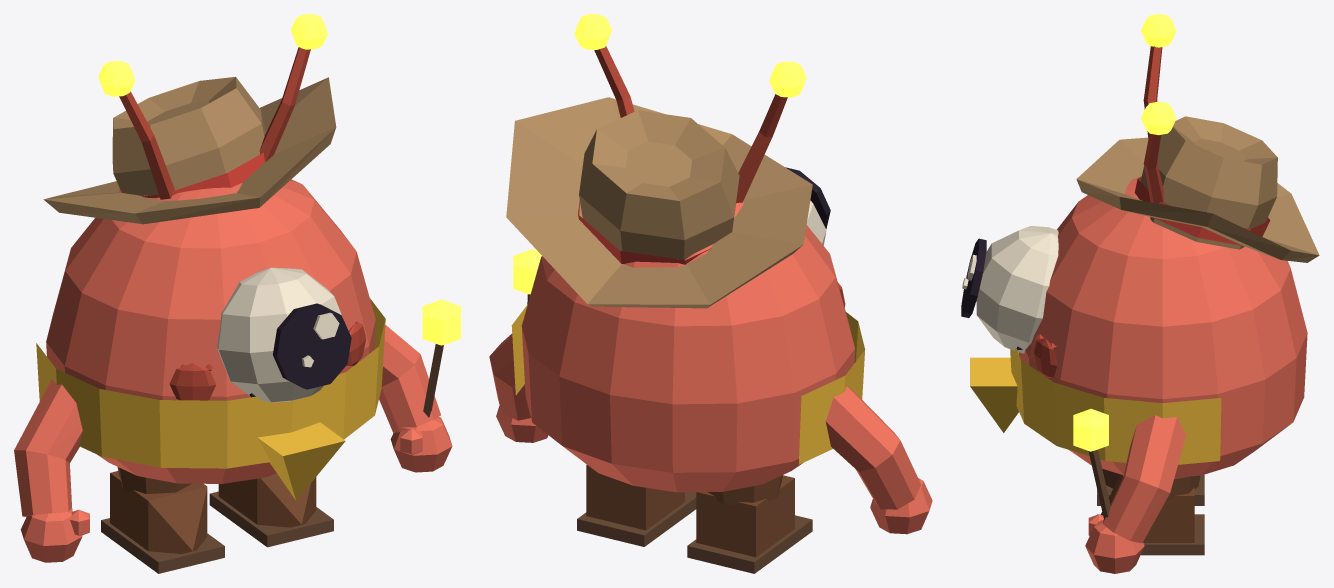
File: Char_Native_Kid.fbx
3 views of the same model, side by side, from view 1: azimuth 30°, elevation 25°; view 2: azimuth 150°, elevation 25°; view 3: azimuth 270°, elevation 25° (orthographic). The views are drawn at different scales.
Visible parts, largest first — view 1: Char_Native_Kid_Body, Char_Native_Kid_Head, Char_Native_Kid_Arm_R, Char_Native_Kid_Leg_R, Char_Native_Kid_Arm_L, Char_Native_Kid_Leg_L; view 2: Char_Native_Kid_Body, Char_Native_Kid_Leg_R, Char_Native_Kid_Arm_R, Char_Native_Kid_Head, Char_Native_Kid_Leg_L, Char_Native_Kid_Arm_L; view 3: Char_Native_Kid_Body, Char_Native_Kid_Head, Char_Native_Kid_Arm_L, Char_Native_Kid_Leg_L, Char_Native_Kid_Leg_R.
Boxes of the visible parts, left/top/right/bottom form: Char_Native_Kid_Body: left=36, top=77, right=385, bottom=500; Char_Native_Kid_Head: left=98, top=14, right=365, bottom=402; Char_Native_Kid_Arm_R: left=14, top=379, right=89, bottom=562; Char_Native_Kid_Leg_R: left=101, top=467, right=224, bottom=573; Char_Native_Kid_Arm_L: left=379, top=299, right=460, bottom=472; Char_Native_Kid_Leg_L: left=209, top=473, right=333, bottom=547; Char_Native_Kid_Body: left=506, top=97, right=865, bottom=492; Char_Native_Kid_Leg_R: left=687, top=475, right=812, bottom=573; Char_Native_Kid_Arm_R: left=825, top=386, right=932, bottom=534; Char_Native_Kid_Head: left=574, top=14, right=845, bottom=307; Char_Native_Kid_Leg_L: left=577, top=465, right=696, bottom=546; Char_Native_Kid_Arm_L: left=489, top=249, right=548, bottom=442; Char_Native_Kid_Body: left=970, top=116, right=1319, bottom=477; Char_Native_Kid_Head: left=961, top=14, right=1176, bottom=377; Char_Native_Kid_Arm_L: left=1073, top=408, right=1186, bottom=573; Char_Native_Kid_Leg_L: left=1097, top=474, right=1204, bottom=555; Char_Native_Kid_Leg_R: left=1097, top=469, right=1204, bottom=505.
Bounding box in the file's own units: 1.15 × 1.27 × 0.9006.
